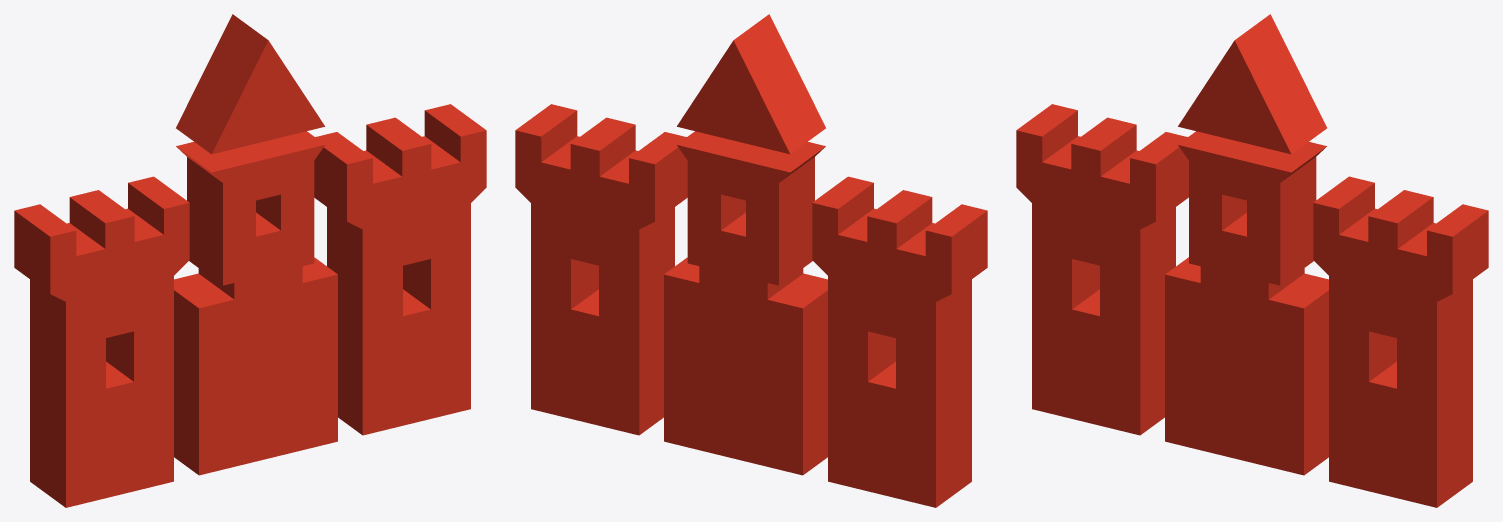
The model's file is Icon_Castle_05.fbx.
3 renders of one model, left to right at view 1: azimuth 30°, elevation 25°; view 2: azimuth 150°, elevation 25°; view 3: azimuth 330°, elevation 25°, orthographic.
Parts seen in each view (by area): view 1: Icon_Castle_05; view 2: Icon_Castle_05; view 3: Icon_Castle_05.
Part boxes in pixels (bbox=[...]): Icon_Castle_05: bbox=[14, 14, 486, 507]; Icon_Castle_05: bbox=[515, 14, 987, 507]; Icon_Castle_05: bbox=[1016, 14, 1488, 507].
Size of the model in its own units: 84.64 by 77.52 by 12.06.
